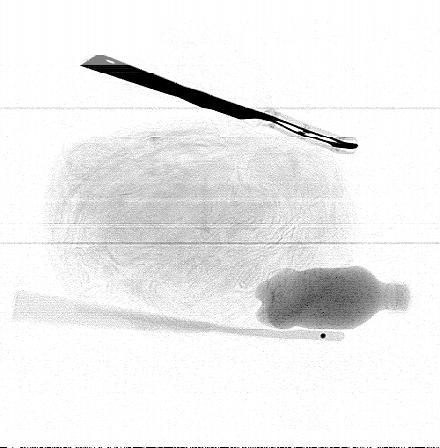Knife: (80, 54, 358, 154)
